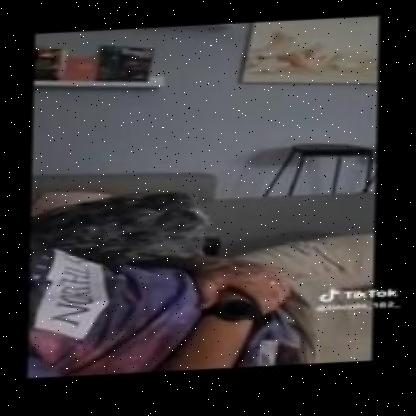dog: (42, 181, 249, 271)
